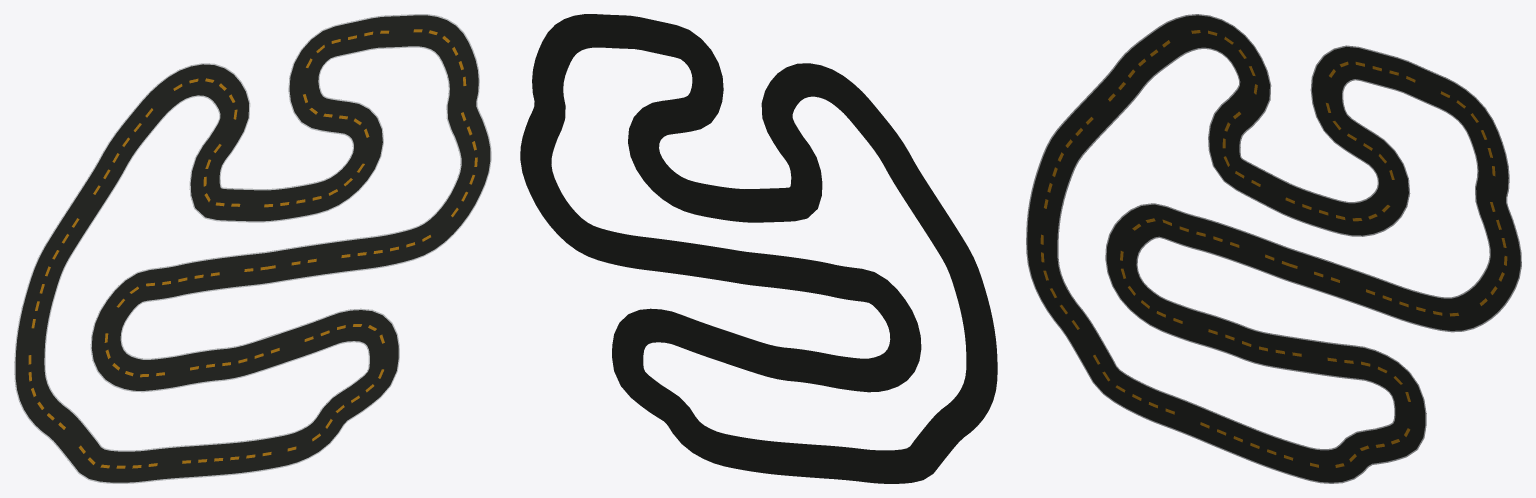
File: track.obj
3 views of the same model, side by side, from view 1: azimuth 30°, elevation 25°; view 2: azimuth 150°, elevation 25°; view 3: azimuth 330°, elevation 25° (orthographic). The views are drawn at different scales.
Bounding box in the file's own units: 16.31 × 14.03 × 0.002.
